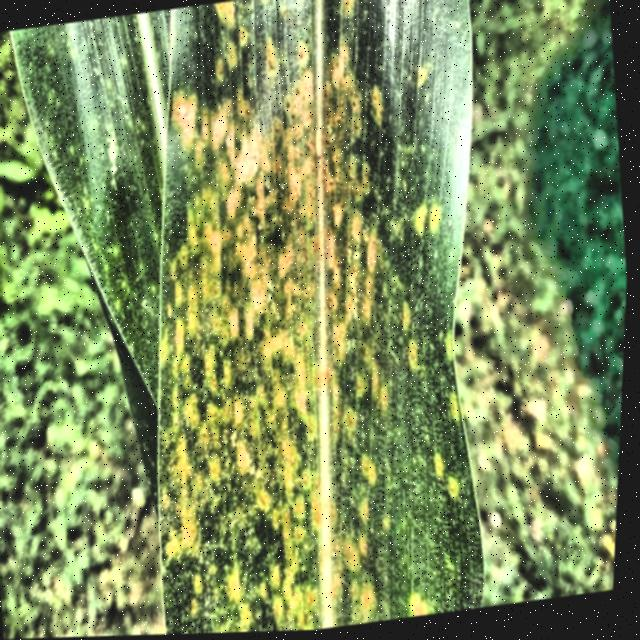common_rust: (164, 0, 490, 634)
